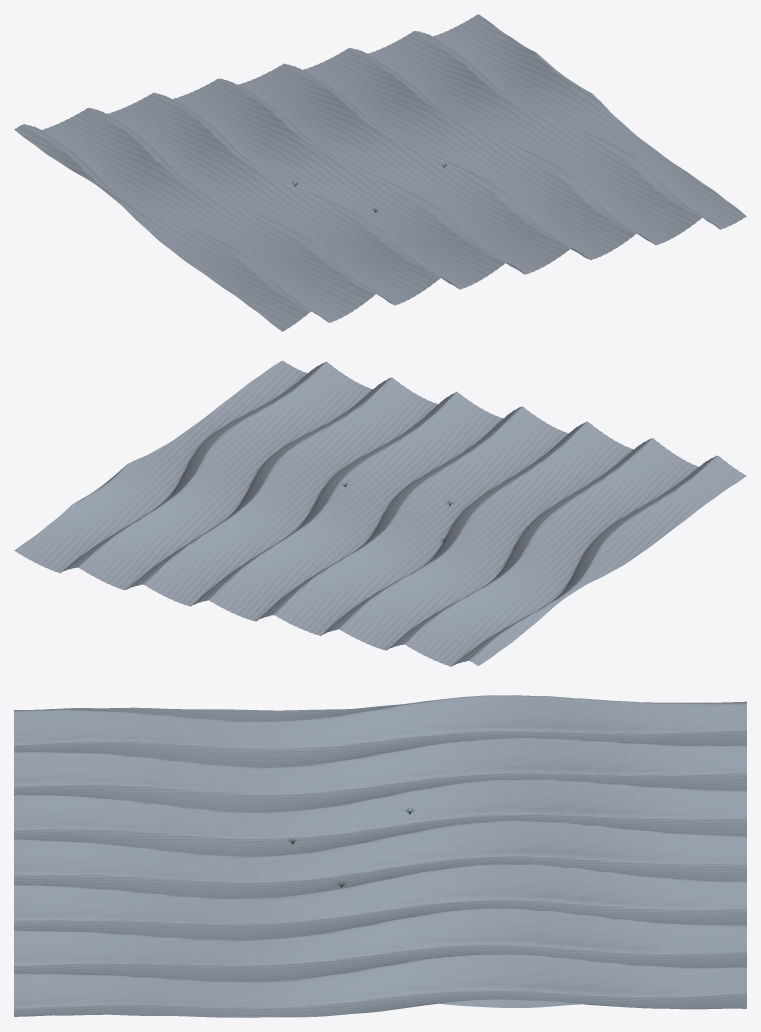
Rendered from white-sands-cinema.glb.
3 renders of one model, top to bottom at view 1: azimuth 30°, elevation 25°; view 2: azimuth 150°, elevation 25°; view 3: azimuth 270°, elevation 25°, orthographic. The views are drawn at different scales.
Visible parts, largest first — view 1: Gypsum dune field; view 2: Gypsum dune field; view 3: Gypsum dune field.
Part boxes in pixels (left/top/right/bottom): Gypsum dune field: left=14, top=14, right=746, bottom=331; Gypsum dune field: left=14, top=360, right=746, bottom=666; Gypsum dune field: left=14, top=695, right=746, bottom=1017.
Bounding box in the file's own units: 75 × 3.28 × 75.
